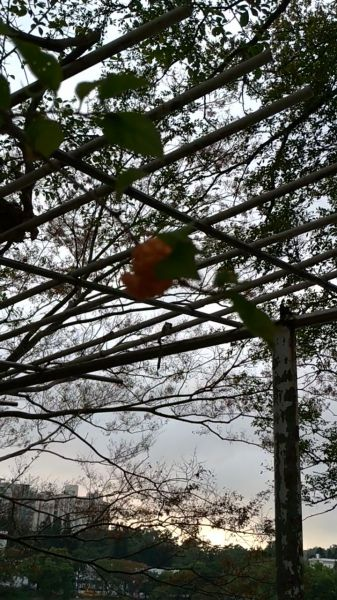eggs: (121, 236, 178, 304)
